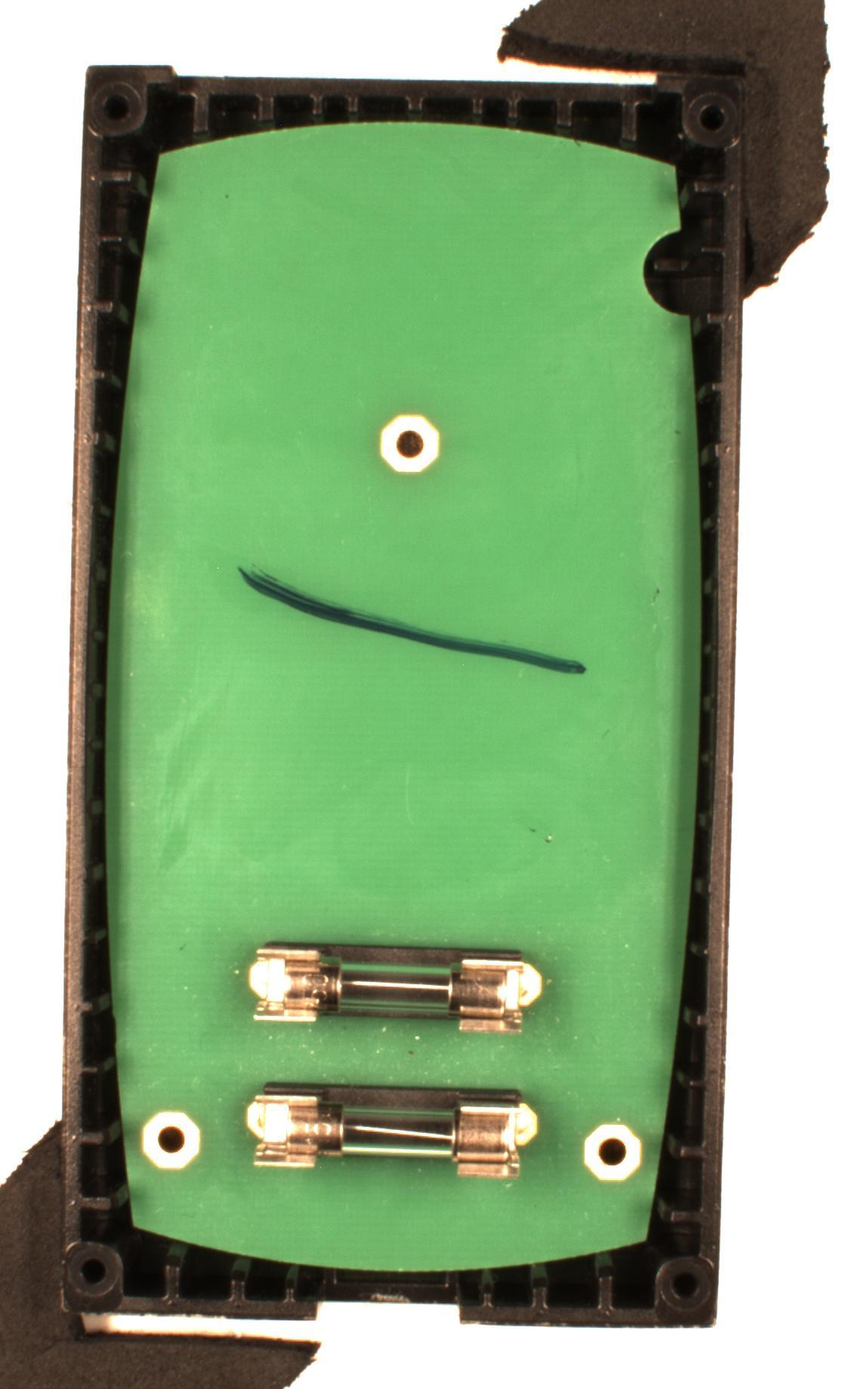Linijsko Ostecene: (232, 564, 590, 684)
